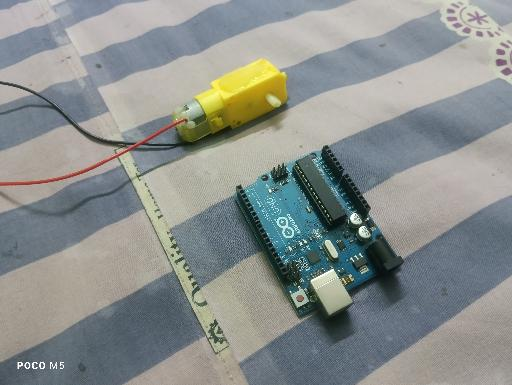Arduino: (233, 144, 405, 320)
Motor: (173, 58, 288, 143)
